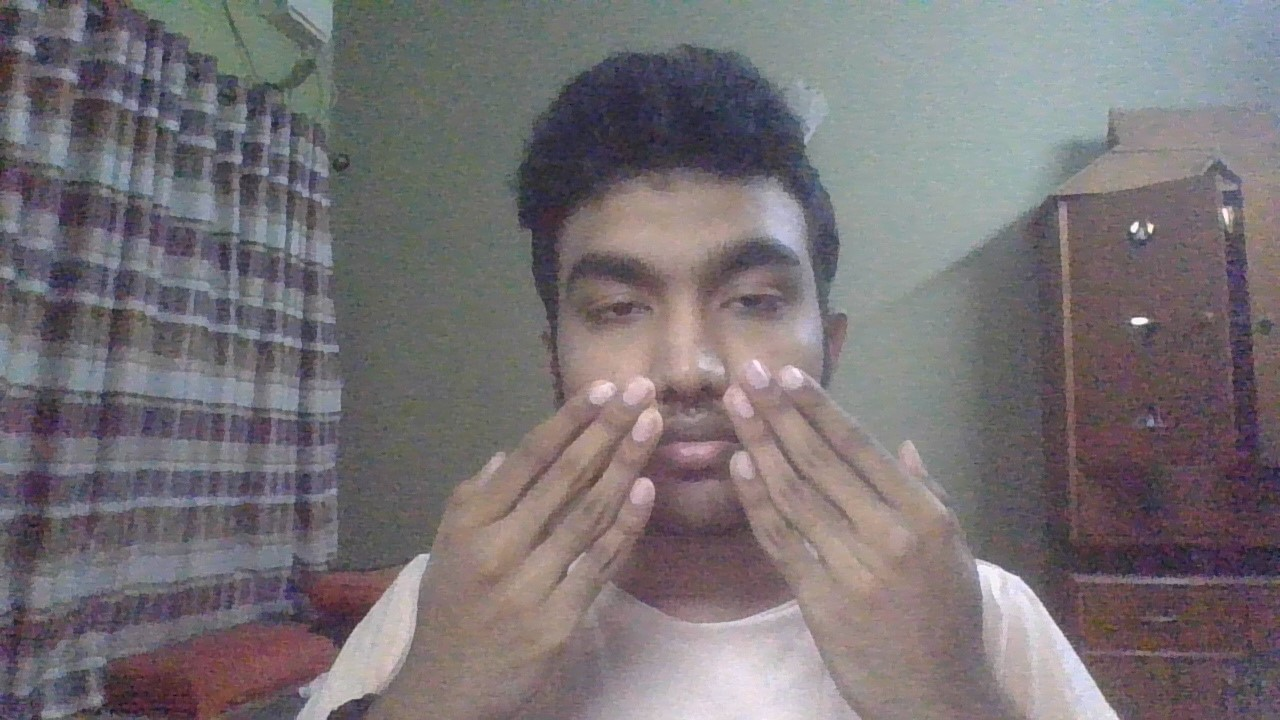Thank You: (404, 360, 992, 718)
